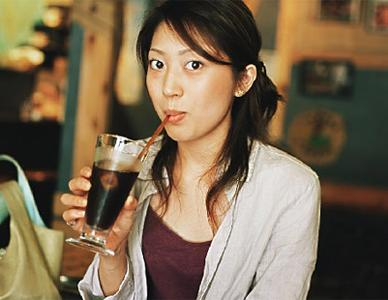person: (59, 2, 321, 300)
